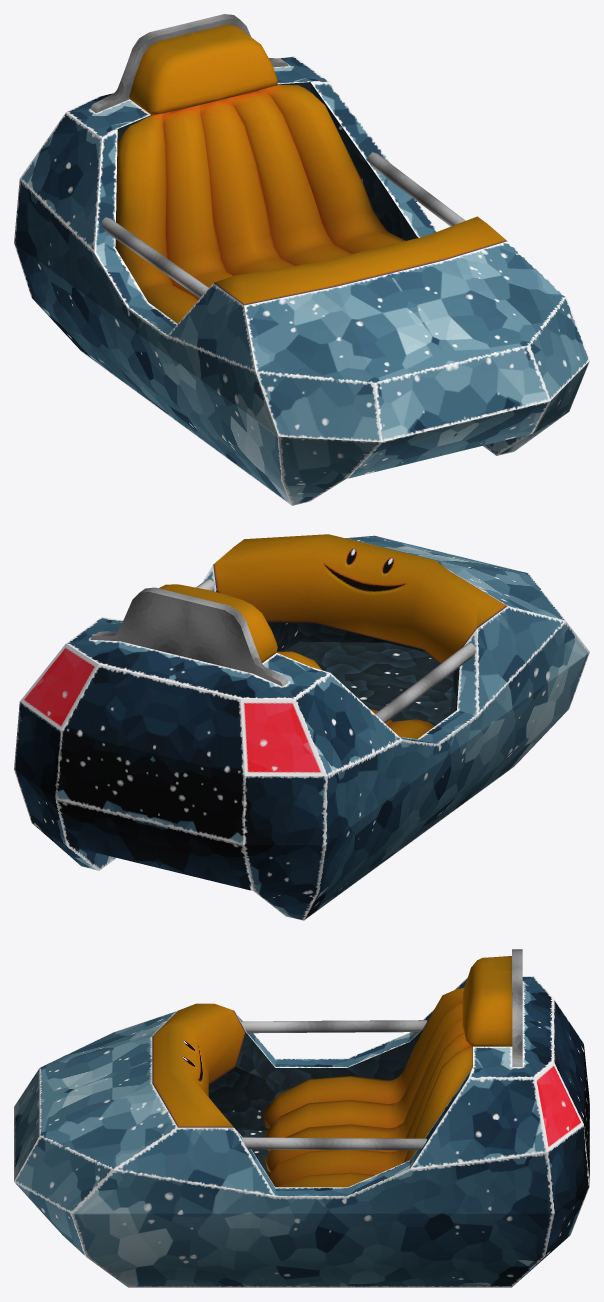
Rendered from Cart_03.fbx.
The picture shows the model from 3 angles, top to bottom: view 1: azimuth 30°, elevation 25°; view 2: azimuth 150°, elevation 25°; view 3: azimuth 270°, elevation 25°; orthographic projection. The views are drawn at different scales.
Visible parts, largest first — view 1: Cube.002; view 2: Cube.002; view 3: Cube.002.
Part boxes in pixels (x1,y1,x2,y2): Cube.002: [14, 14, 589, 505]; Cube.002: [14, 534, 589, 920]; Cube.002: [14, 949, 589, 1287].
Bounding box in the file's own units: 363 × 331 × 639.
